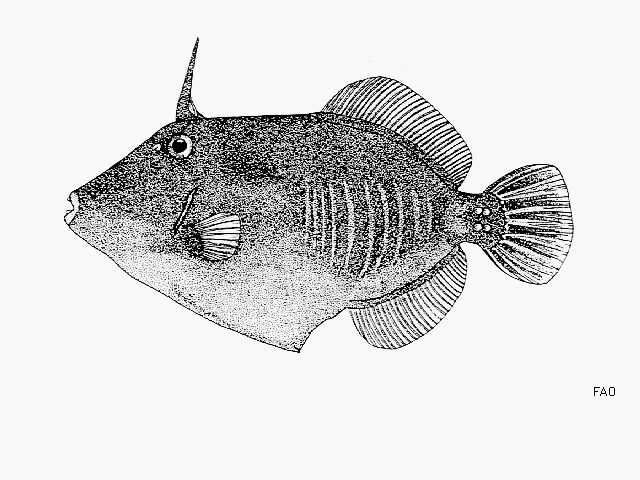fish: (63, 36, 575, 355)
